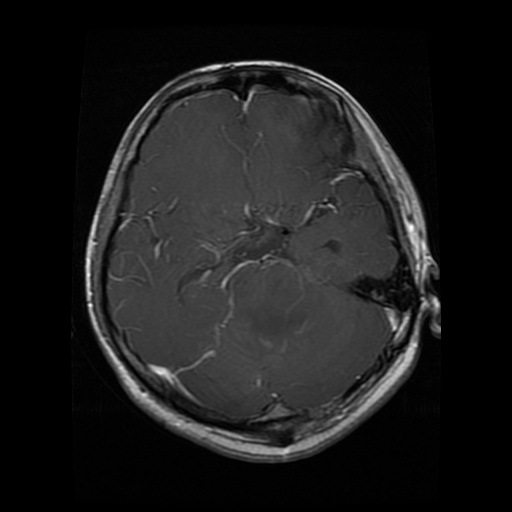glioma: (293, 97, 357, 175)
